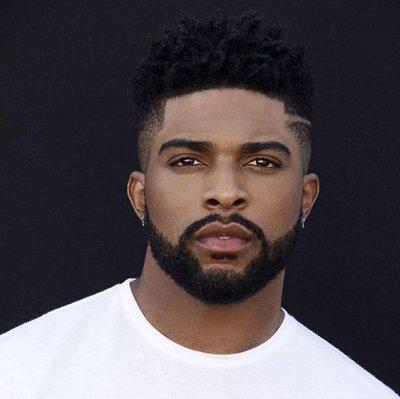Sober: (156, 96, 301, 285)
